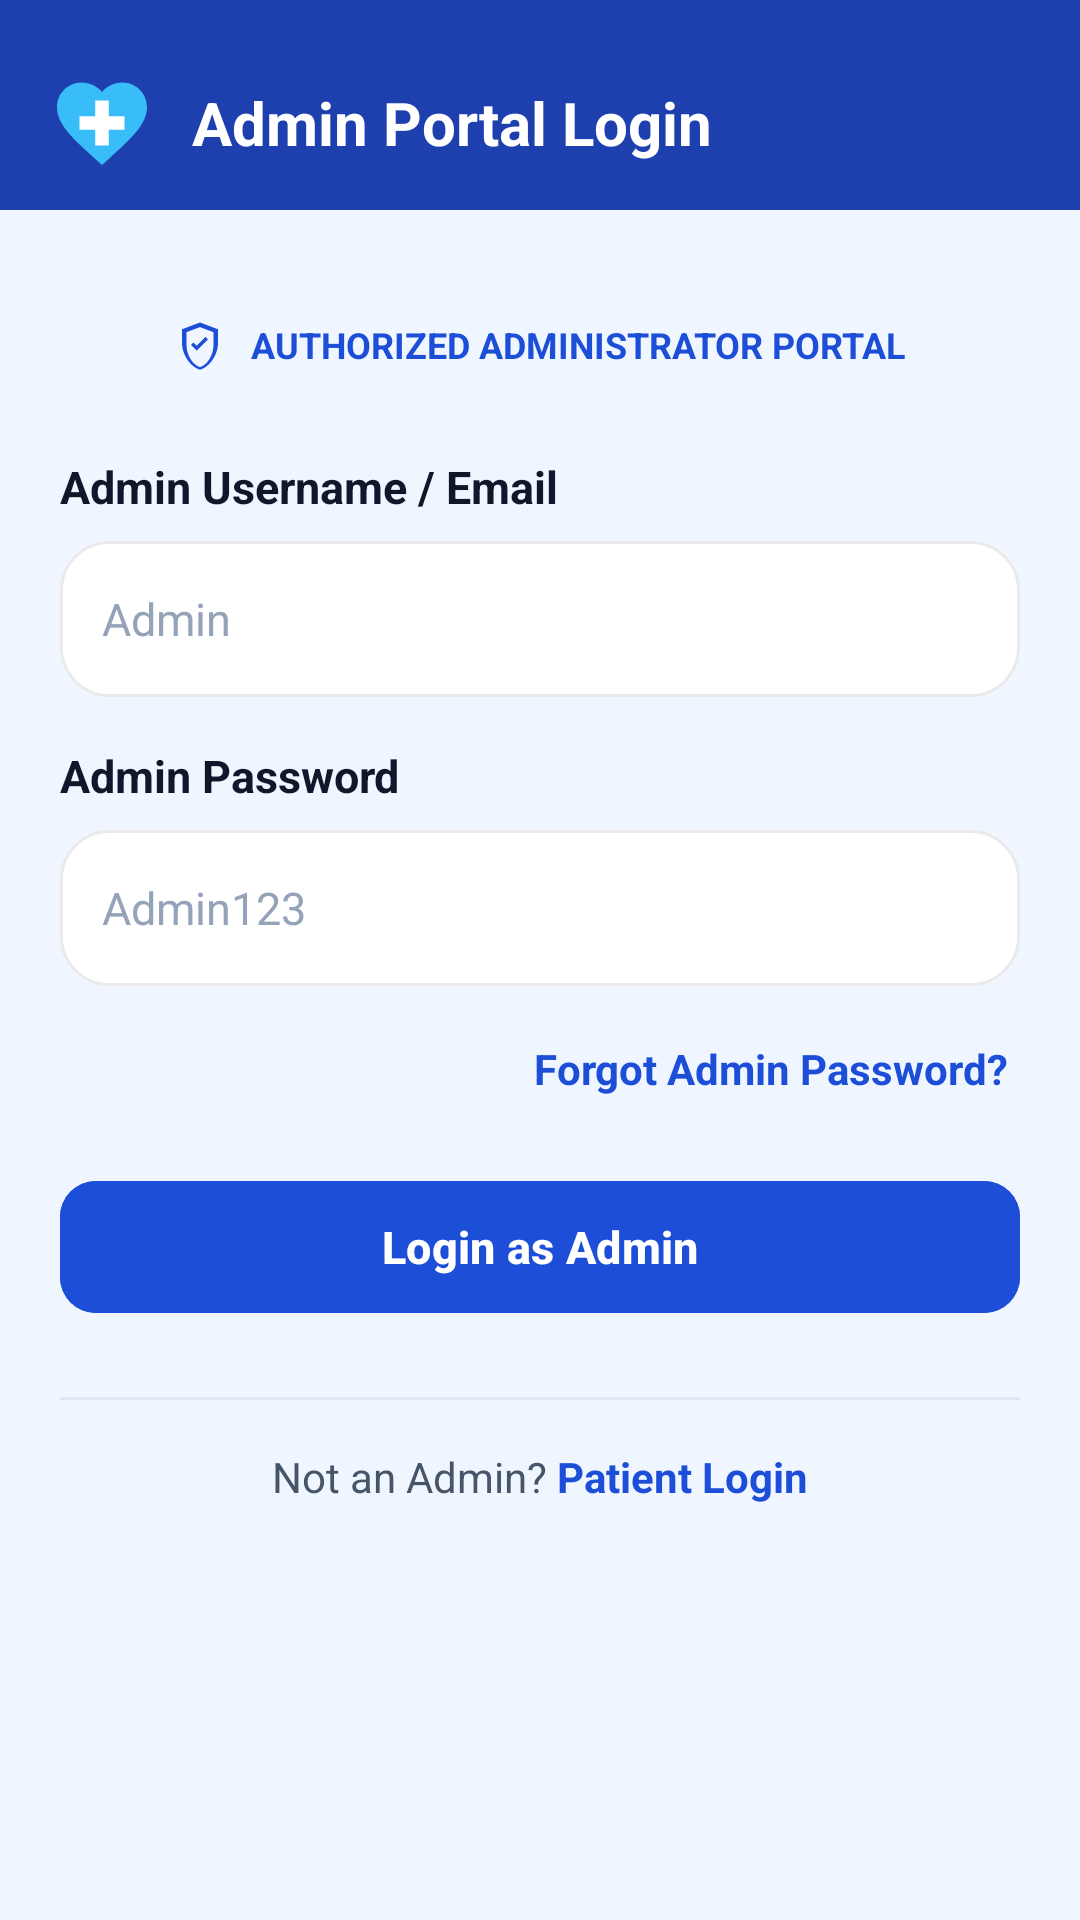

Where to tap for icons on this 1080 × 1920 app screen, as (x,y):
shield check: (200,346)
